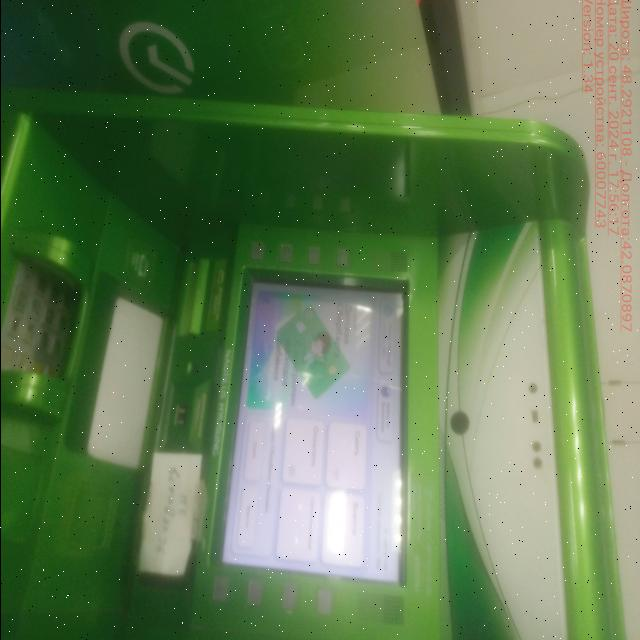bank: (0, 99, 628, 640), (0, 0, 486, 124)
